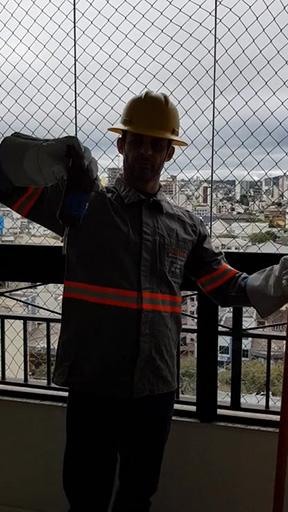Detector_Tensao_Contato: (53, 169, 95, 254)
